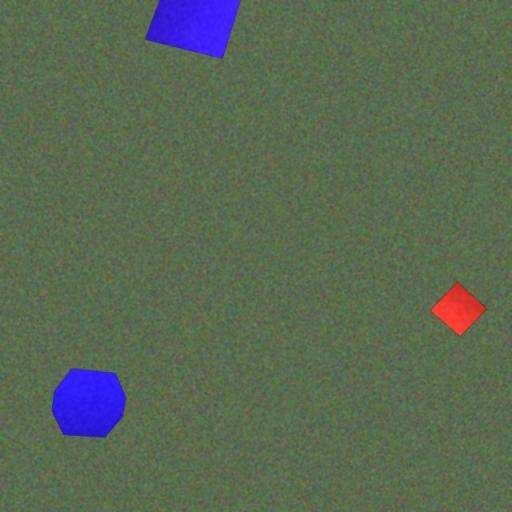BLUE_SQUARE: (144, 0, 247, 59)
RED_SQUARE: (430, 280, 488, 338)
